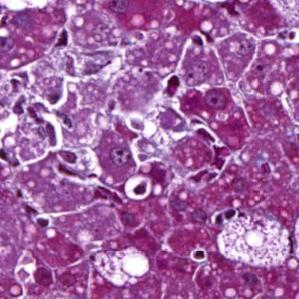ballooning: (212, 213, 295, 269), (90, 243, 152, 289)
